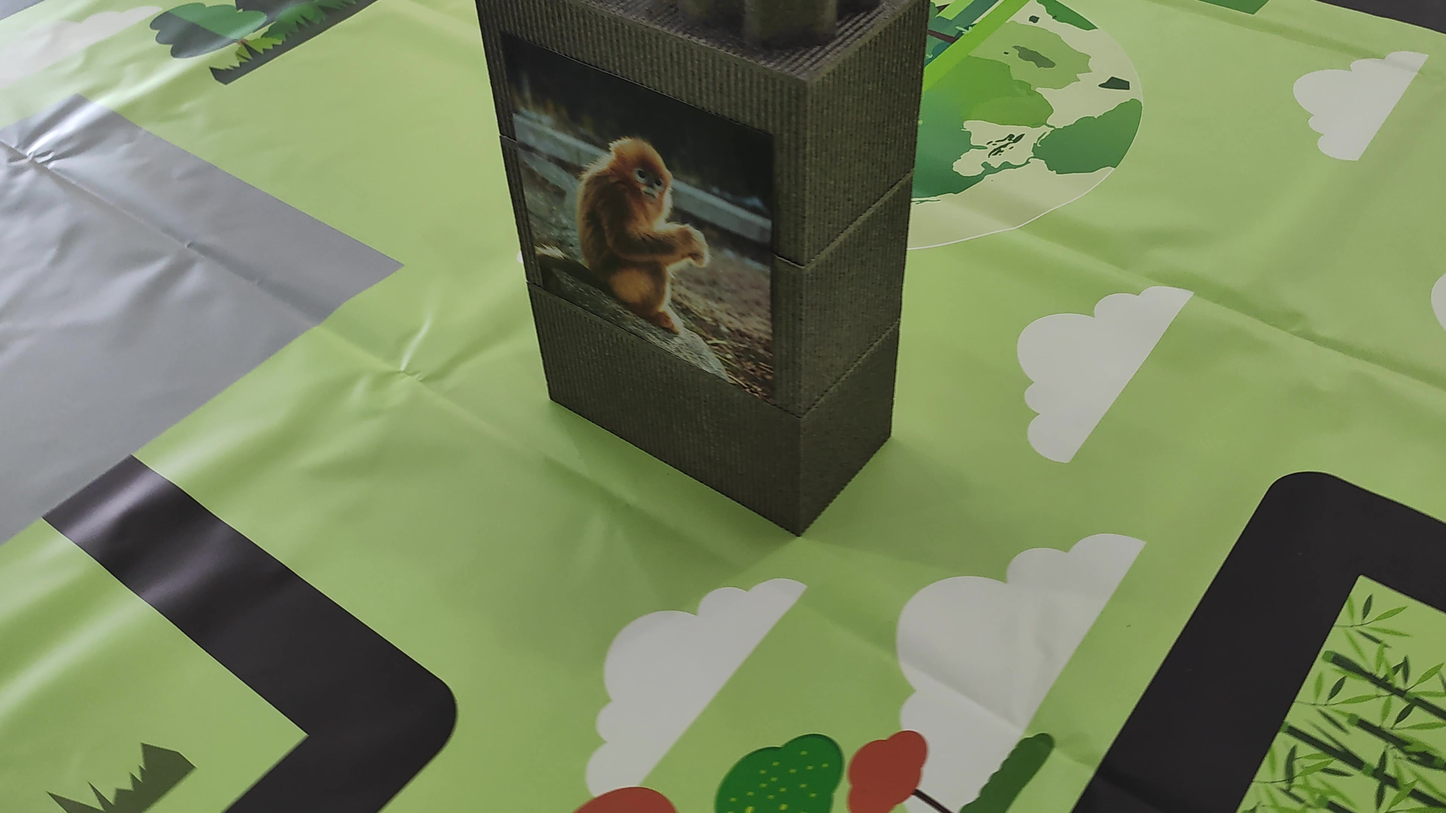monkey: (533, 103, 769, 342)
